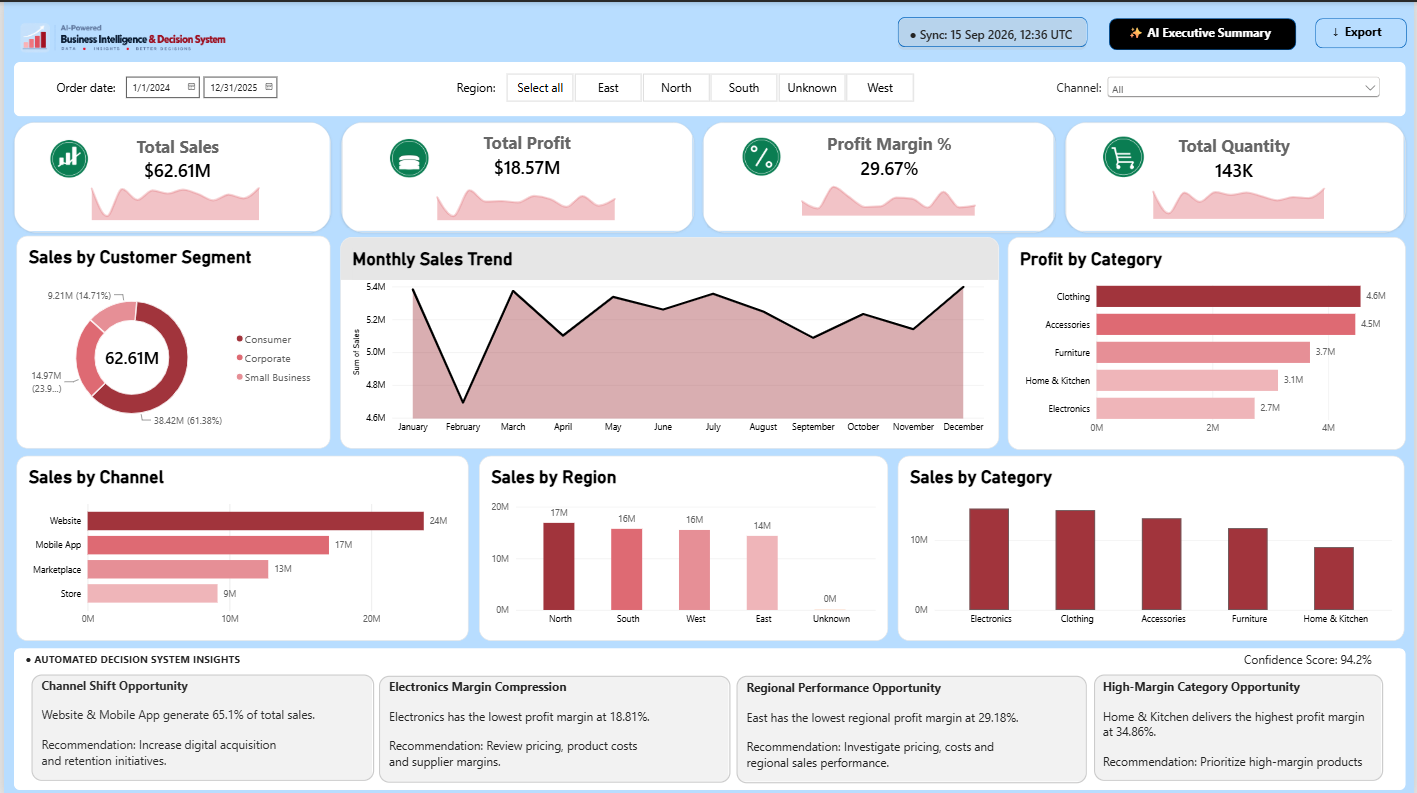

Layout of this report page (visuals, bound fields, positions):
{"tool":"powerbi","page":{"name":"Executive Dashboard","canvas":[1920,1080],"ordinal":0},"visuals":[{"type":"cardVisual","fields":{"Data":["Sum(SalesData.Unit_Price)"]},"box":[13.8,81,1894.8,74.1],"z":0},{"type":"cardVisual","fields":{"Data":["SalesData.Total Sales"]},"box":[13,163,431.5,150],"z":1000},{"type":"cardVisual","fields":{"Data":["Sum(ai_business_intelligence sales.Profit)"]},"box":[459.3,163,479.6,150],"z":2000},{"type":"clusteredColumnChart","title":"Sales by Region","fields":{"Category":["SalesData.Region"],"Y":["Sum(SalesData.Sales)"]},"box":[646.6,617.2,556.9,251.7],"z":3000},{"type":"clusteredColumnChart","title":"Sales by Category","fields":{"Category":["SalesData.Category"],"Y":["Sum(SalesData.Sales)"]},"box":[1217.2,617.2,689.7,251.7],"z":4000},{"type":"lineChart","title":"Monthly Sales Trend","fields":{"Category":["SalesData.Order_Date.Variation.Date Hierarchy.Month"],"Y":["Sum(SalesData.Sales)"]},"box":[456.9,320.7,896.6,287.9],"z":5000},{"type":"clusteredBarChart","title":"Profit by Category","fields":{"Category":["SalesData.Category"],"Y":["Sum(SalesData.Profit)"]},"box":[1365.5,320.7,541.4,289.7],"z":6000},{"type":"clusteredBarChart","title":"Sales by Channel","fields":{"Category":["SalesData.Sales_Channel"],"Y":["Sum(SalesData.Sales)"]},"box":[17.2,617.2,615.5,251.7],"z":7000},{"type":"donutChart","title":"Sales by Customer Segment","fields":{"Category":["SalesData.Customer_Segment"],"Y":["Sum(SalesData.Sales)"]},"box":[17.2,319,427.6,289.7],"z":8000},{"type":"areaChart","fields":{"Category":["SalesData.Order_Date.Variation.Date Hierarchy.Month"],"Y":["SalesData.Total Sales"]},"box":[95.9,230.2,275.9,83.3],"z":9000},{"type":"cardVisual","fields":{"Data":["SalesData.Total Sales"]},"box":[153.7,175.9,166.7,77.8],"z":10000},{"type":"image","box":[36.6,184.9,102.9,55.8],"z":11000},{"type":"areaChart","fields":{"Category":["SalesData.Order_Date.Variation.Date Hierarchy.Month"],"Y":["SalesData.Total Profit"]},"box":[565.1,232,291.3,82],"z":12000},{"type":"cardVisual","fields":{"Data":["SalesData.Total Profit"]},"box":[594.8,157,233.3,105.6],"z":13000},{"type":"image","box":[516.7,183.3,68.5,57.4],"z":14000},{"type":"cardVisual","fields":{"Data":["Sum(ai_business_intelligence sales.Profit)"]},"box":[951.9,163,479.6,150],"z":15000},{"type":"cardVisual","fields":{"Data":["SalesData.Profit Margin %"]},"box":[1084.9,155.2,239.7,110.6],"z":16000},{"type":"areaChart","fields":{"Category":["SalesData.Order_Date.Variation.Date Hierarchy.Month"],"Y":["SalesData.Profit Margin %"]},"box":[1062.2,221.5,284.3,85.5],"z":17000},{"type":"image","box":[997.1,181.7,67.4,56.7],"z":18000},{"type":"cardVisual","fields":{"Data":["Sum(ai_business_intelligence sales.Profit)"]},"box":[1444.4,163,463,150],"z":19000},{"type":"cardVisual","fields":{"Data":["SalesData.Total Quantity"]},"box":[1555.8,158.7,238.3,110.6],"z":20000},{"type":"image","box":[1457.7,179.8,131.2,61],"z":21000},{"type":"areaChart","fields":{"Category":["SalesData.Order_Date.Variation.Date Hierarchy.Month"],"Y":["SalesData.Total Quantity"]},"box":[1540.1,228.5,281.5,83.3],"z":22000},{"type":"slicer","fields":{"Values":["SalesData.Region"]},"box":[662.8,95.9,593,41.9],"z":27000},{"type":"slicer","fields":{"Values":["SalesData.Order_Date"]},"box":[158.7,97.7,345.3,40.1],"z":28000},{"type":"textbox","box":[71.5,104.7,300,38.4],"z":29000},{"type":"textbox","box":[616.7,105.6,300,37],"z":30000},{"type":"slicer","fields":{"Values":["SalesData.Sales_Channel"]},"box":[1496.5,97.7,380.2,71.5],"z":31000},{"type":"textbox","box":[1432,104.7,300,38.4],"z":32000},{"type":"image","box":[0,0,323.2,97.8],"z":33000},{"type":"cardVisual","fields":{"Data":["Sum(SalesData.Unit_Price)"]},"box":[13.8,879.3,1894.8,193.1],"z":34000},{"type":"textbox","box":[29.3,884.5,403.4,63.8],"z":35000},{"type":"textbox","box":[1688,882.7,232,37.3],"z":36000},{"type":"textbox","box":[51.6,919.4,464.5,143.5],"z":37000},{"type":"shape","box":[37.1,916.1,466.1,145.2],"z":38000},{"type":"shape","box":[510.9,916.3,478.3,145.7],"z":39000},{"type":"textbox","box":[524.2,921,445.2,153.2],"z":40000},{"type":"shape","box":[997.8,916.3,477.2,146.7],"z":41000},{"type":"textbox","box":[1011.3,922.6,421,135.5],"z":42000},{"type":"shape","box":[1483.9,916.1,393.5,145.2],"z":43000},{"type":"textbox","box":[1495.2,921,400,125.8],"z":44000},{"type":"cardVisual","fields":{"Data":["SalesData.Sync Status"]},"box":[1216.4,21.7,257.9,43.4],"z":45000},{"type":"shape","box":[1217,21,258.4,41],"z":46000},{"type":"shape","box":[1503.5,21.5,254.8,43.4],"z":47000},{"type":"textbox","box":[1528.8,30.3,209.8,23.5],"z":48000},{"type":"shape","box":[1784.6,22,124.6,40.8],"z":49000},{"type":"textbox","box":[1807.9,28.9,89,23.2],"z":50000}]}

Visuals, with their boxes in screenshot pixels (x1, y1, x2, y2), scaled from the page's 1920x1080 canvas onto the 1417x793 screenshot:
cardVisual - Sum(SalesData.Unit_Price): 10, 59, 1409, 114
cardVisual - SalesData.Total Sales: 10, 120, 328, 230
cardVisual - Sum(ai_business_intelligence sales.Profit): 339, 120, 693, 230
"Sales by Region" clusteredColumnChart: 477, 453, 888, 638
"Sales by Category" clusteredColumnChart: 898, 453, 1407, 638
"Monthly Sales Trend" lineChart: 337, 235, 999, 447
"Profit by Category" clusteredBarChart: 1008, 235, 1407, 448
"Sales by Channel" clusteredBarChart: 13, 453, 467, 638
"Sales by Customer Segment" donutChart: 13, 234, 328, 447
areaChart - SalesData.Order_Date.Variation.Date Hierarchy.Month x SalesData.Total Sales: 71, 169, 274, 230
cardVisual - SalesData.Total Sales: 113, 129, 236, 186
image: 27, 136, 103, 177
areaChart - SalesData.Order_Date.Variation.Date Hierarchy.Month x SalesData.Total Profit: 417, 170, 632, 231
cardVisual - SalesData.Total Profit: 439, 115, 611, 193
image: 381, 135, 432, 177
cardVisual - Sum(ai_business_intelligence sales.Profit): 703, 120, 1056, 230
cardVisual - SalesData.Profit Margin %: 801, 114, 978, 195
areaChart - SalesData.Order_Date.Variation.Date Hierarchy.Month x SalesData.Profit Margin %: 784, 163, 994, 225
image: 736, 133, 786, 175
cardVisual - Sum(ai_business_intelligence sales.Profit): 1066, 120, 1408, 230
cardVisual - SalesData.Total Quantity: 1148, 117, 1324, 198
image: 1076, 132, 1173, 177
areaChart - SalesData.Order_Date.Variation.Date Hierarchy.Month x SalesData.Total Quantity: 1137, 168, 1344, 229
slicer - SalesData.Region: 489, 70, 927, 101
slicer - SalesData.Order_Date: 117, 72, 372, 101
textbox: 53, 77, 274, 105
textbox: 455, 78, 677, 105
slicer - SalesData.Sales_Channel: 1104, 72, 1385, 124
textbox: 1057, 77, 1278, 105
image: 0, 0, 239, 72
cardVisual - Sum(SalesData.Unit_Price): 10, 646, 1409, 787
textbox: 22, 649, 319, 696
textbox: 1246, 648, 1416, 676
textbox: 38, 675, 381, 780
shape: 27, 673, 371, 779
shape: 377, 673, 730, 780
textbox: 387, 676, 715, 789
shape: 736, 673, 1089, 781
textbox: 746, 677, 1057, 777
shape: 1095, 673, 1386, 779
textbox: 1103, 676, 1399, 769
cardVisual - SalesData.Sync Status: 898, 16, 1088, 48
shape: 898, 15, 1089, 46
shape: 1110, 16, 1298, 48
textbox: 1128, 22, 1283, 40
shape: 1317, 16, 1409, 46
textbox: 1334, 21, 1400, 38
